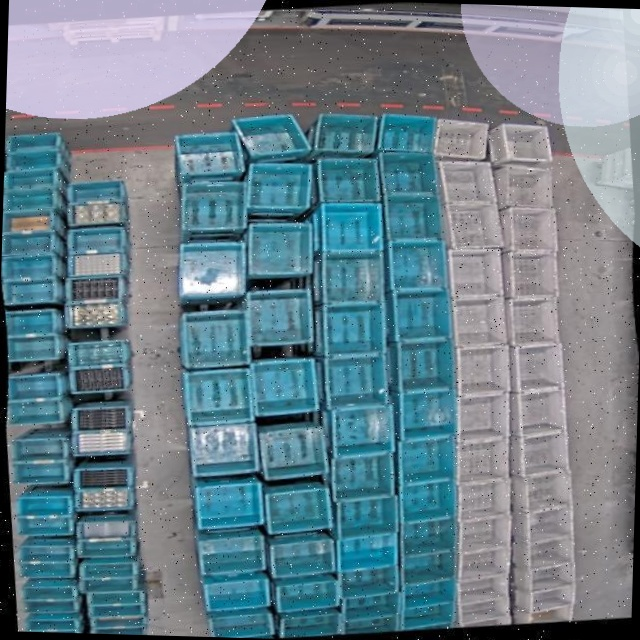Box: (241, 214, 317, 280), (226, 107, 314, 161), (249, 354, 323, 418), (181, 365, 256, 427), (254, 420, 331, 480), (179, 304, 251, 368), (176, 235, 248, 299), (177, 176, 254, 235), (243, 284, 315, 346), (241, 155, 315, 215), (316, 245, 387, 306), (310, 149, 385, 206), (171, 125, 247, 181), (322, 350, 390, 412), (317, 195, 386, 255), (389, 335, 460, 393), (319, 297, 386, 358), (188, 419, 259, 476), (389, 284, 456, 342), (373, 143, 441, 200), (262, 481, 334, 534), (308, 106, 381, 158), (327, 403, 397, 457), (430, 153, 497, 209), (192, 478, 265, 529), (328, 448, 398, 501), (385, 235, 450, 292), (379, 189, 445, 245), (437, 197, 506, 250), (393, 385, 458, 440), (497, 200, 560, 256), (371, 106, 439, 157), (493, 158, 558, 211), (443, 244, 504, 300), (499, 246, 563, 299), (331, 491, 400, 540), (396, 433, 461, 485), (452, 342, 513, 397), (449, 293, 511, 347), (505, 291, 565, 346), (507, 385, 571, 436), (428, 112, 492, 162), (451, 391, 512, 442), (195, 530, 264, 575), (487, 119, 552, 165), (453, 435, 514, 484), (510, 429, 572, 477), (509, 468, 575, 513), (269, 534, 337, 577), (512, 341, 569, 392), (332, 531, 398, 572), (273, 574, 341, 613), (400, 477, 458, 522), (454, 475, 510, 521), (456, 511, 513, 555), (400, 514, 458, 557), (203, 573, 270, 610), (512, 505, 575, 542), (510, 534, 574, 570), (454, 543, 512, 582), (400, 548, 459, 586), (205, 607, 275, 639), (513, 561, 577, 595), (63, 296, 128, 329), (62, 223, 129, 254), (66, 197, 133, 228), (402, 575, 461, 610), (513, 582, 576, 614), (67, 362, 132, 393), (73, 401, 134, 434), (340, 564, 399, 598), (70, 426, 131, 458), (67, 336, 129, 367), (66, 247, 128, 278), (73, 462, 137, 492), (278, 609, 344, 638), (341, 590, 400, 622), (64, 271, 125, 301), (4, 395, 63, 426), (73, 484, 136, 513), (63, 177, 126, 206), (455, 592, 512, 624), (457, 571, 510, 605), (0, 274, 58, 305), (12, 433, 68, 465), (73, 532, 138, 559), (7, 371, 64, 401), (1, 250, 57, 280), (6, 331, 60, 362), (11, 457, 68, 486), (399, 600, 456, 629), (15, 492, 72, 520), (76, 514, 137, 540), (16, 511, 73, 538), (4, 306, 57, 335), (2, 228, 54, 256), (2, 206, 54, 234), (16, 556, 74, 581), (17, 540, 75, 565), (77, 571, 140, 594), (3, 185, 57, 211), (18, 593, 78, 616), (6, 147, 61, 172), (21, 580, 78, 604), (85, 585, 147, 607), (5, 127, 61, 151), (512, 602, 573, 624), (341, 612, 399, 635), (4, 165, 56, 189), (78, 557, 137, 578), (87, 609, 149, 628), (22, 613, 78, 633), (86, 599, 147, 617), (93, 620, 146, 635), (24, 624, 80, 633), (83, 629, 144, 635)
